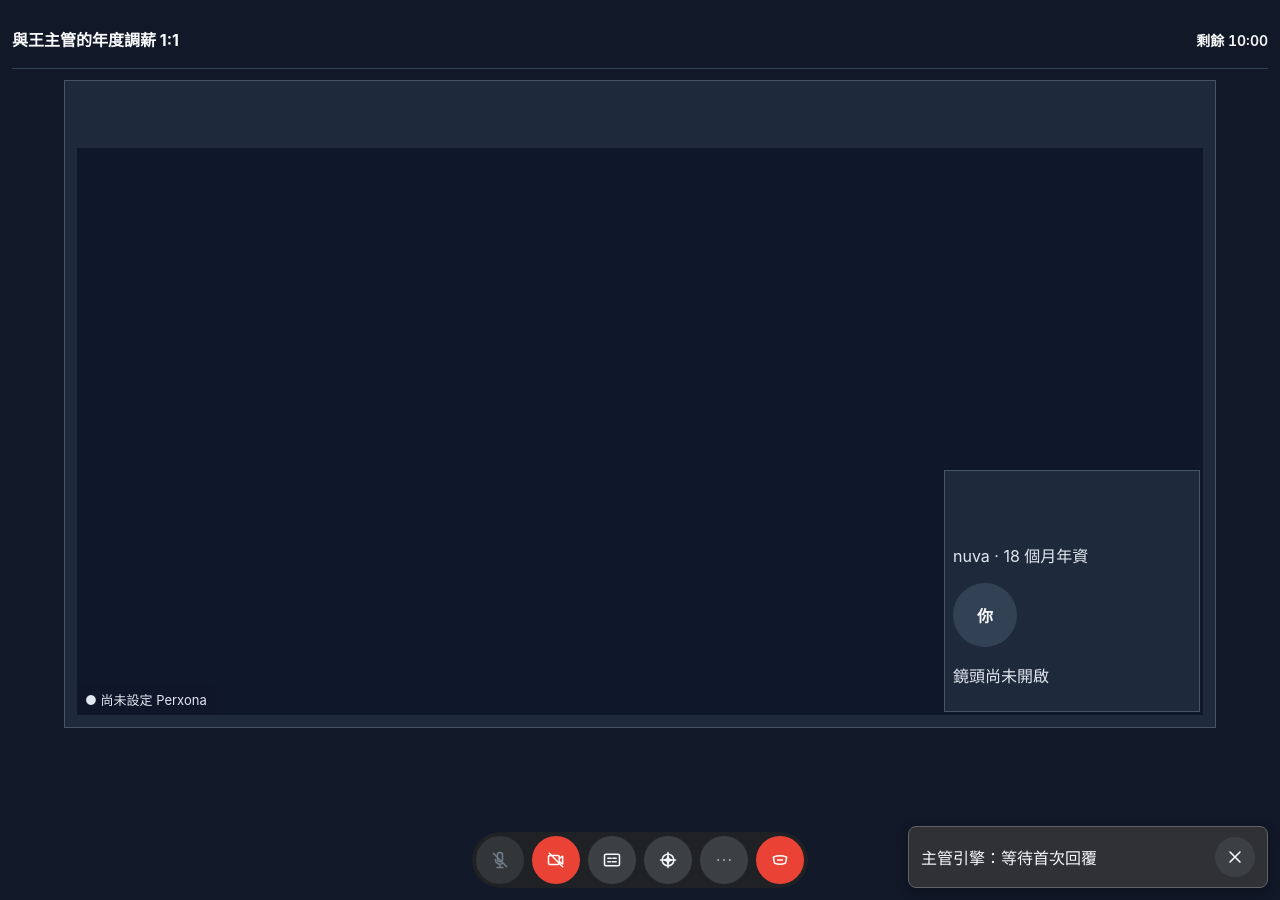
Test: provides a real text fallback when local voice is unavailable
Step 1. Click the button named "開啟逐字稿" → (612,860), box [588,836,636,884]
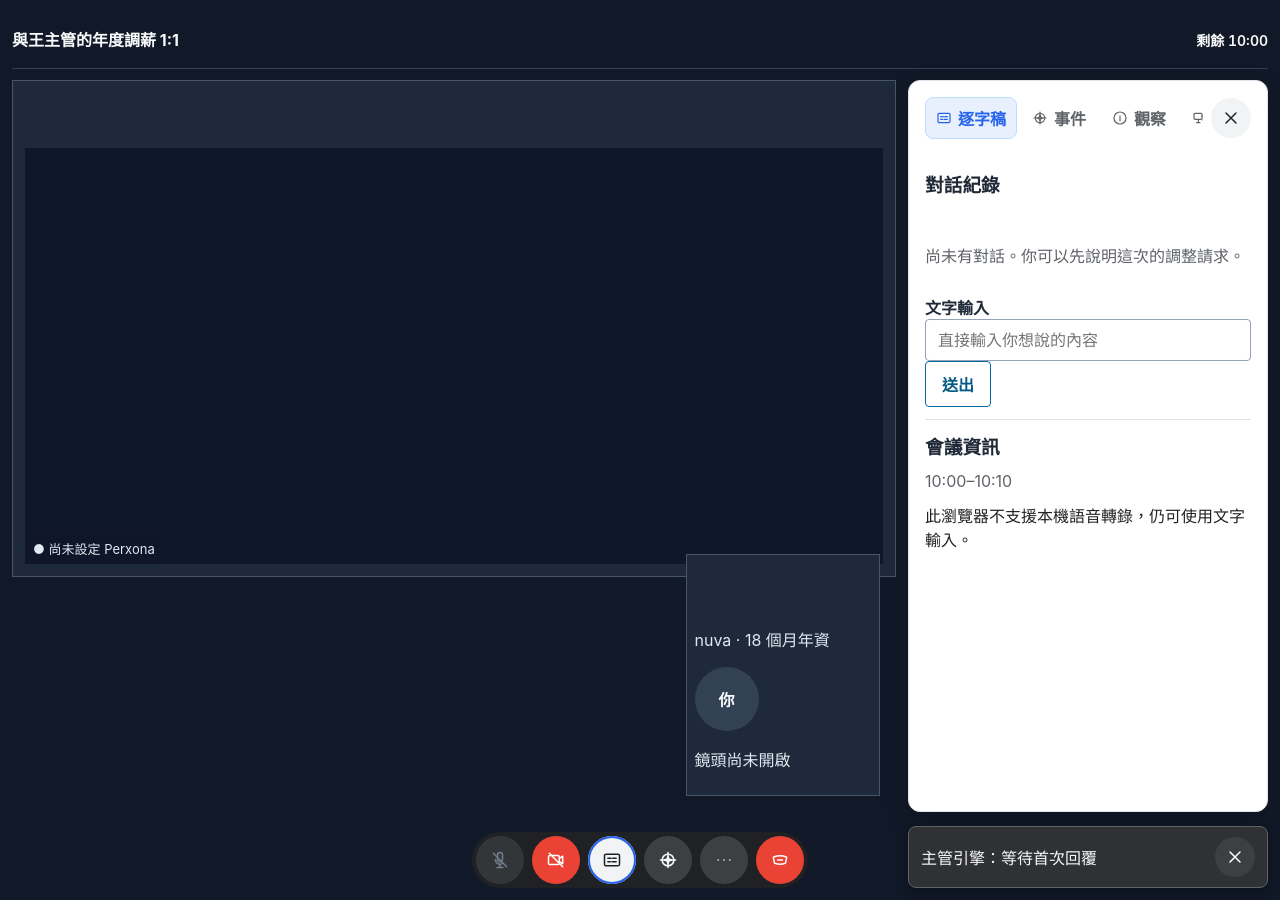
Expected: the field labelled "文字輸入" is shown, [925,319,1251,361]
